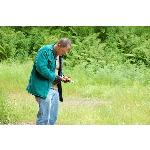Pistol: (56, 73, 74, 84)
